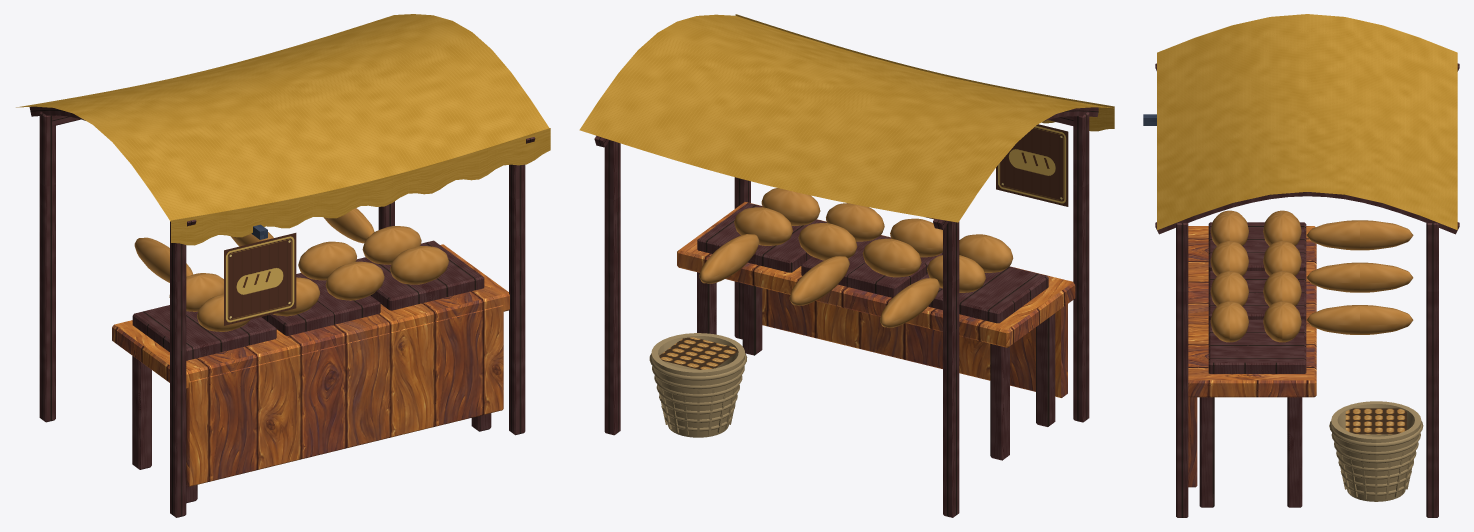
Rendered from Bread_Stall.fbx.
The picture shows the model from 3 angles, left to right: view 1: azimuth 30°, elevation 25°; view 2: azimuth 150°, elevation 25°; view 3: azimuth 270°, elevation 25°; orthographic projection. The views are drawn at different scales.
Parts seen in each view (by area): view 1: Draped stitched awning.001, Counter front.001, Scalloped canvas hem.001, Counter top.001, Painted shop sign.001, Canopy post.005, Canopy post.004, Canopy post.006, Display tray.003, Display tray.005, Display tray.004, Counter leg.005 (+9 smaller); view 2: Draped stitched awning.001, Counter front.001, Counter top.001, Canopy post.004, Canopy post.005, Canopy post.007, Painted shop sign.001, Woven basket body.003, Display tray.003, Display tray.005, Display tray.004, Counter leg.005 (+17 smaller); view 3: Draped stitched awning.001, Counter top.001, Woven basket body.003, Display tray.005, Canopy post.006, Canopy post.007, Long bread, Long bread.001, Long bread.002, Counter leg.006, Counter leg.007, Display tray.004 (+12 smaller).
Boxes of the visible parts, x1,y1,x2,y2 form: Draped stitched awning.001: [16, 14, 549, 221]; Counter front.001: [186, 305, 503, 486]; Scalloped canvas hem.001: [171, 128, 550, 245]; Counter top.001: [112, 244, 509, 388]; Painted shop sign.001: [224, 233, 296, 325]; Canopy post.005: [39, 111, 55, 422]; Canopy post.004: [170, 221, 186, 517]; Canopy post.006: [509, 164, 525, 435]; Display tray.003: [132, 305, 276, 360]; Display tray.005: [356, 240, 484, 310]; Display tray.004: [261, 273, 380, 335]; Counter leg.005: [132, 356, 151, 469]; Draped stitched awning.001: [579, 14, 1113, 222]; Counter front.001: [762, 288, 1067, 397]; Counter top.001: [677, 202, 1075, 347]; Canopy post.004: [1073, 112, 1089, 422]; Canopy post.005: [943, 221, 959, 517]; Canopy post.007: [604, 140, 620, 435]; Painted shop sign.001: [996, 124, 1068, 206]; Woven basket body.003: [651, 333, 744, 437]; Display tray.003: [918, 266, 1048, 323]; Display tray.005: [697, 203, 826, 272]; Display tray.004: [801, 235, 942, 297]; Counter leg.005: [990, 344, 1009, 460]; Draped stitched awning.001: [1157, 14, 1457, 230]; Counter top.001: [1188, 226, 1316, 397]; Woven basket body.003: [1331, 401, 1421, 501]; Display tray.005: [1208, 319, 1306, 373]; Canopy post.006: [1176, 223, 1188, 517]; Canopy post.007: [1426, 223, 1438, 517]; Long bread: [1306, 220, 1413, 250]; Long bread.001: [1306, 262, 1413, 292]; Long bread.002: [1307, 305, 1413, 334]; Counter leg.006: [1199, 397, 1214, 507]; Counter leg.007: [1287, 397, 1302, 507]; Display tray.004: [1208, 271, 1306, 320].
Size of the model in its own units: 336 by 294 by 253.
